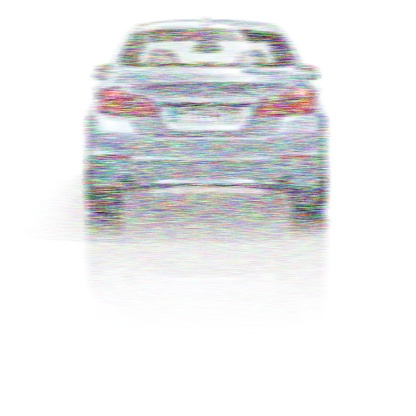Vehicle: (82, 16, 332, 221)
